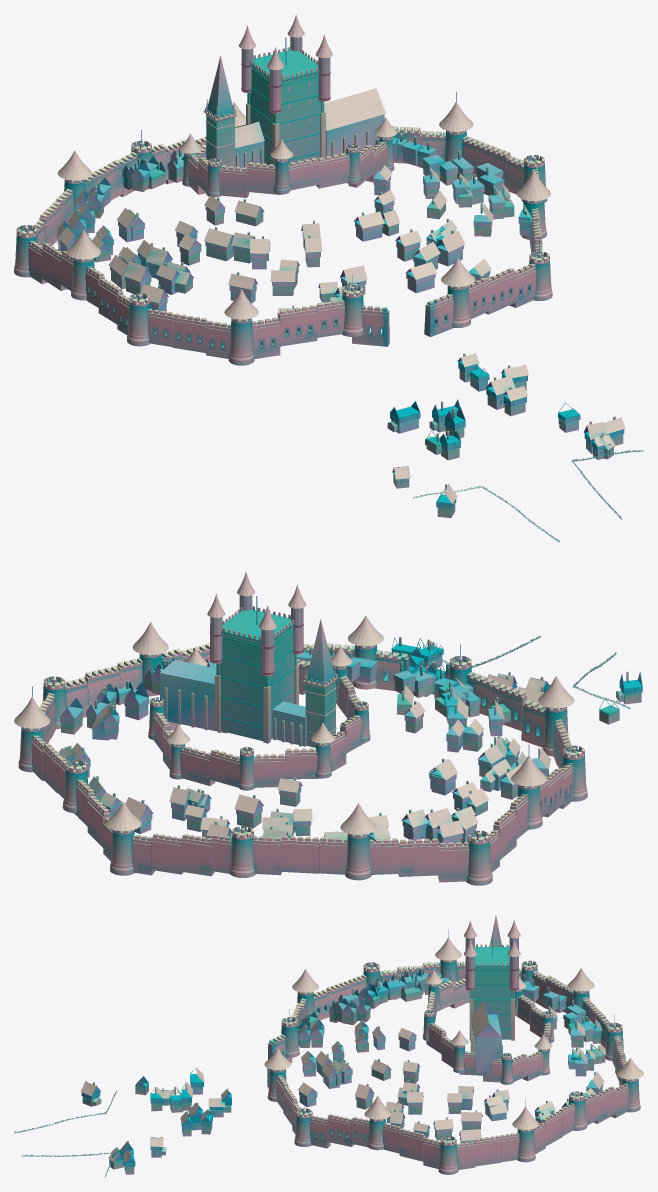
The model's file is town.glb.
The picture shows the model from 3 angles, top to bottom: view 1: azimuth 30°, elevation 25°; view 2: azimuth 150°, elevation 25°; view 3: azimuth 270°, elevation 25°; orthographic projection. The views are drawn at different scales.
Parts seen in each view (by area): view 1: Vael town.001; view 2: Vael town.001; view 3: Vael town.001.
Boxes of the visible parts, box(x1,y1,x2,y2) form: Vael town.001: box(14, 15, 643, 542); Vael town.001: box(14, 571, 642, 885); Vael town.001: box(14, 915, 643, 1177).
Size of the model in its own units: 235 by 132 by 345.
